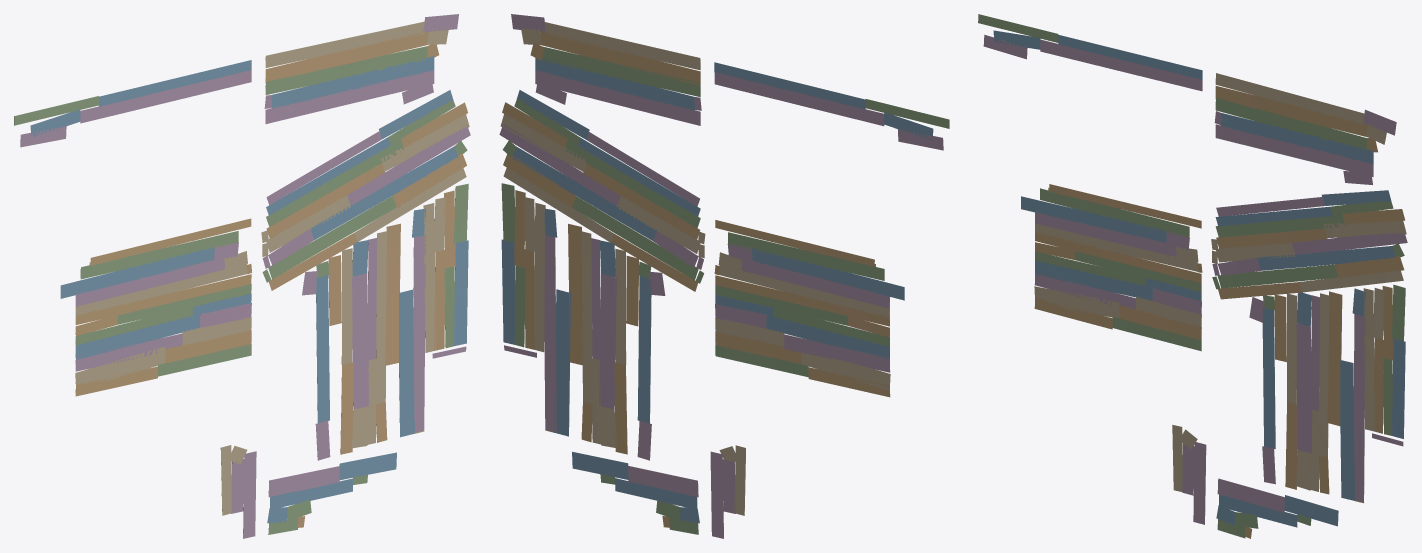
File: working_faces.glb
3 views of the same model, side by side, from view 1: azimuth 30°, elevation 25°; view 2: azimuth 150°, elevation 25°; view 3: azimuth 330°, elevation 25° (orthographic). The views are drawn at different scales.
Visible parts, largest first — view 1: world; view 2: world; view 3: world.
Part boxes in pixels (x1=…): world: x1=14, y1=14, x2=470, y2=538; world: x1=499, y1=14, x2=949, y2=538; world: x1=978, y1=14, x2=1407, y2=538.
Bounding box in the file's own units: 12188 × 12370 × 124.
